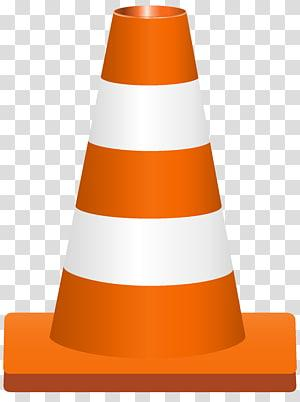traffic_cone: (3, 4, 297, 392)
